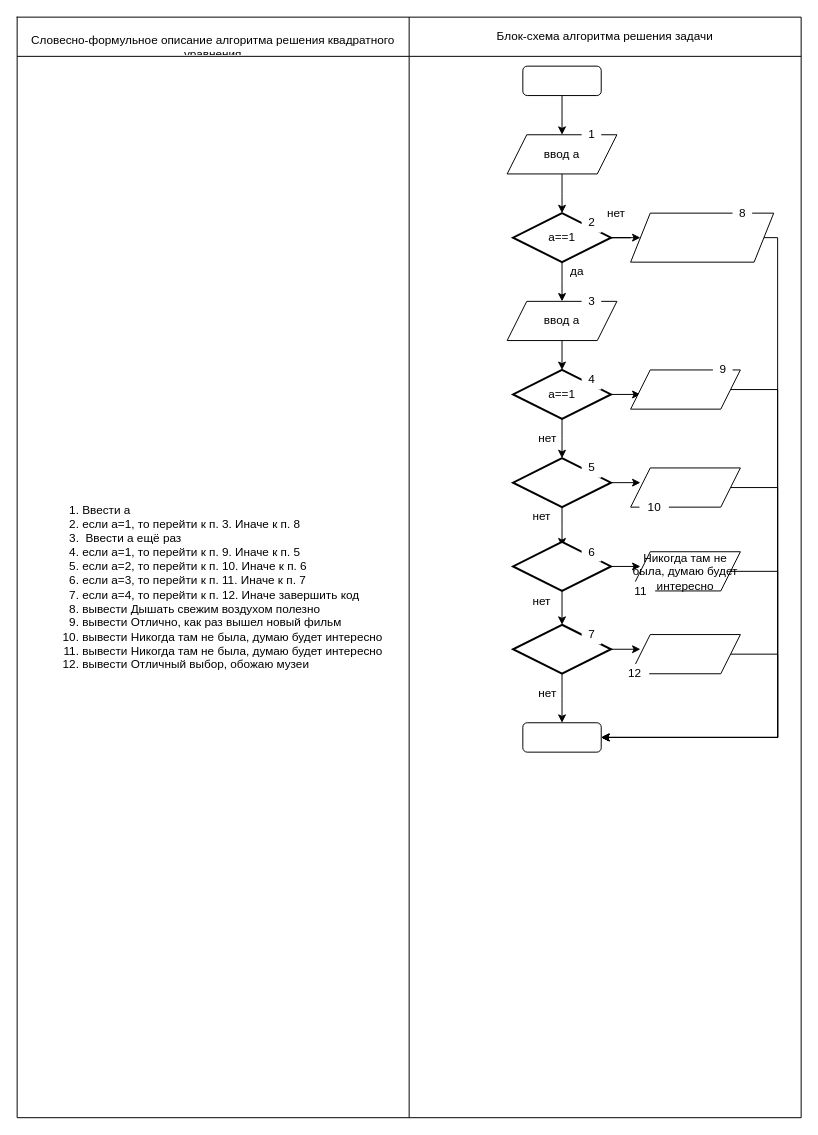
Image size: 818x1135. Some labels were removed from this diagram. Here are the shapes that lost their labels. From the top down, the box of each, then its label:
(522, 65, 601, 96): начало
(630, 212, 774, 262): Очень жаль, надеюсь в следующий раз выйдет
(630, 369, 740, 409): Дышать свежим воздухом полезно
(512, 457, 612, 508): a==2
(630, 467, 740, 507): Отлично, как раз вышел новый фильм
(512, 540, 612, 591): a==3
(512, 623, 612, 674): a==4
(630, 634, 740, 674): Отличный выбор, обожаю музеи
(522, 722, 601, 752): конец
